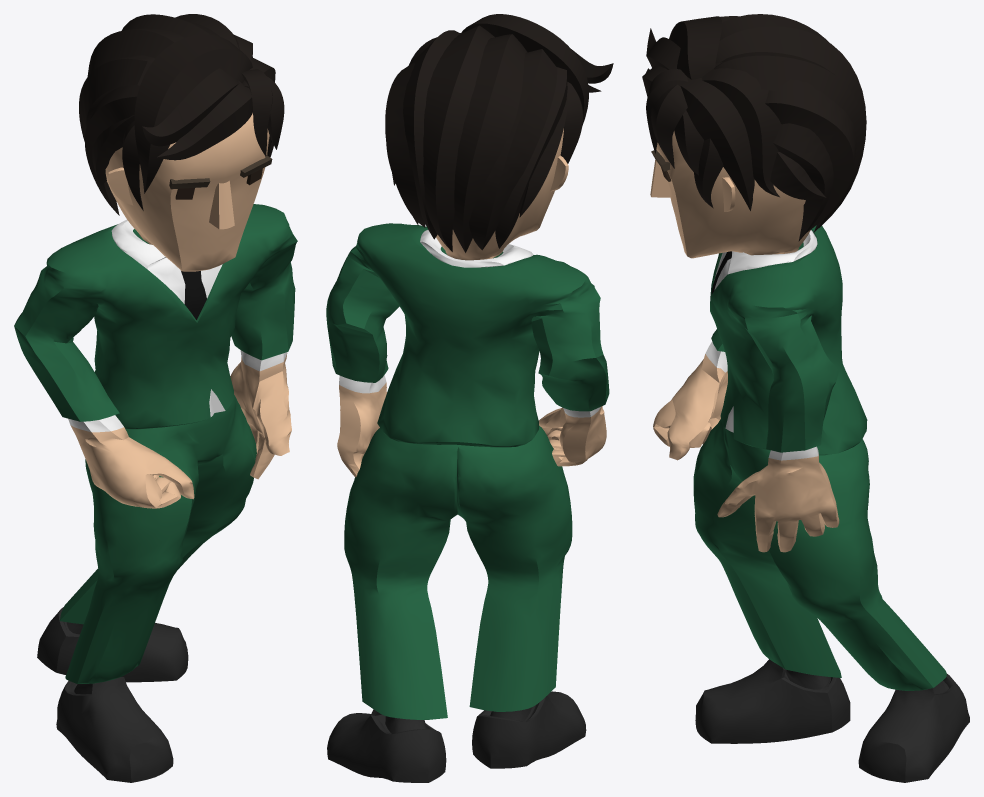
File: av-jogador-sinuca.glb
3 renders of one model, left to right at view 1: azimuth 30°, elevation 25°; view 2: azimuth 150°, elevation 25°; view 3: azimuth 270°, elevation 25°, orthographic. The views are drawn at different scales.
Parts seen in each view (by area): view 1: Suit_Body; view 2: Suit_Body; view 3: Suit_Body.
Part boxes in pixels (x1,y1,x2,y2): Suit_Body: (14,14,297,782); Suit_Body: (326,14,613,782); Suit_Body: (642,14,969,782).
Size of the model in its own units: 0.5603 by 1.39 by 0.5627.
Materials: 1 (1 with a texture image).
